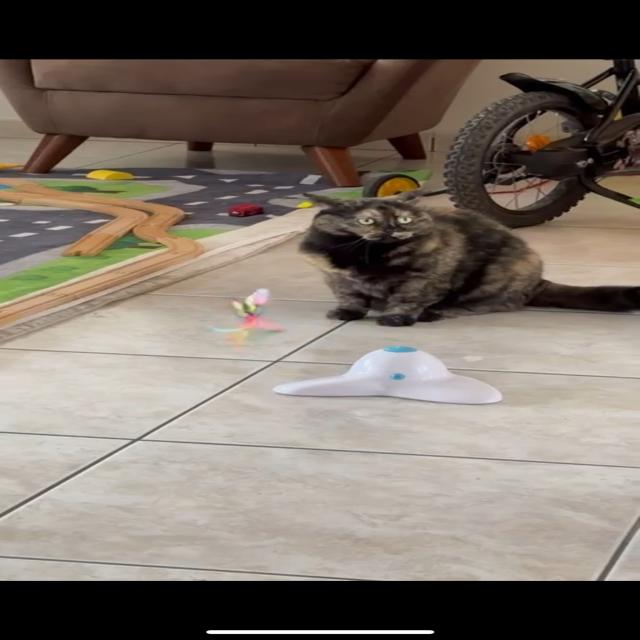authorized: (296, 187, 638, 327)
